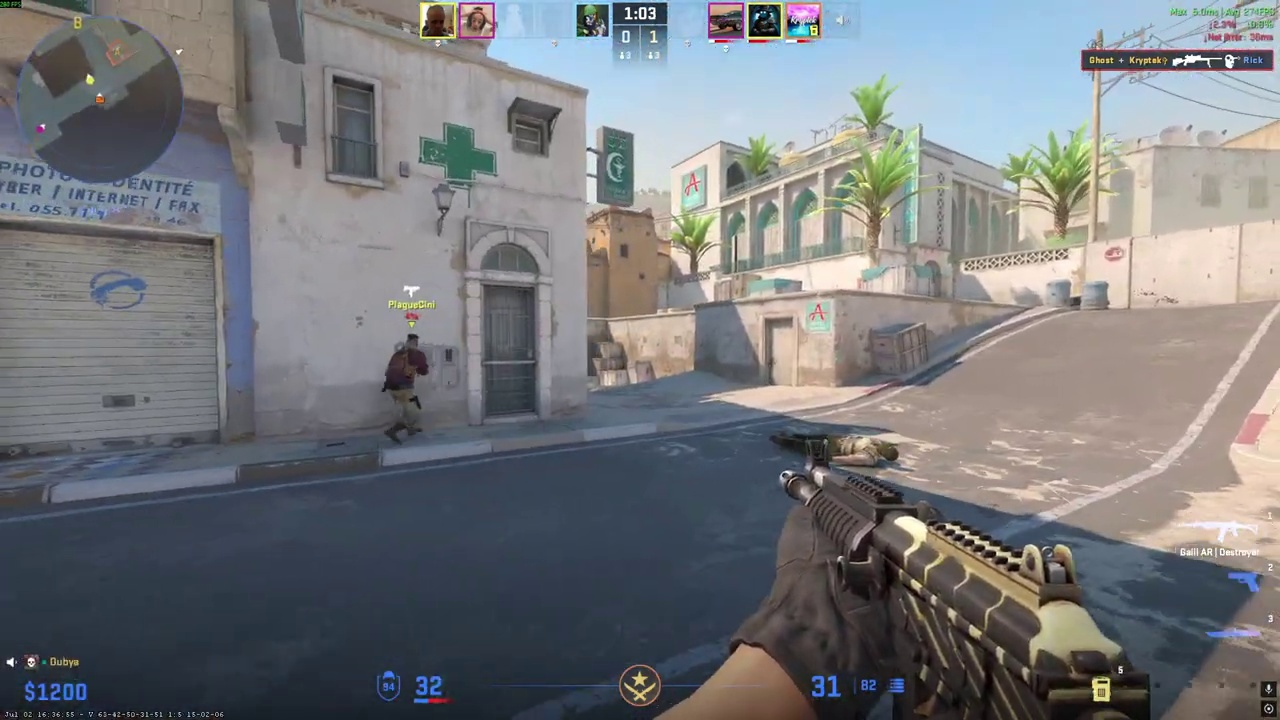Terrorist: (383, 331, 427, 444)
